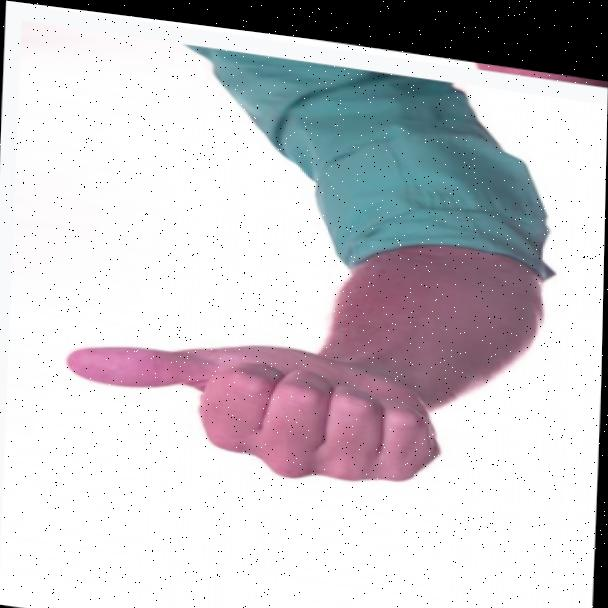five: (57, 312, 463, 495)
